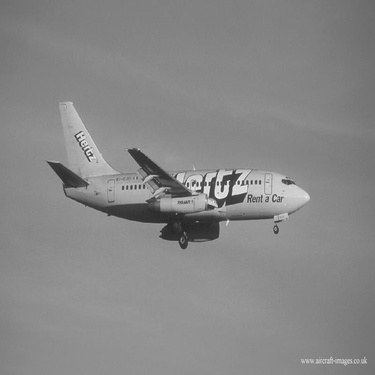airplane: (35, 91, 318, 250)
